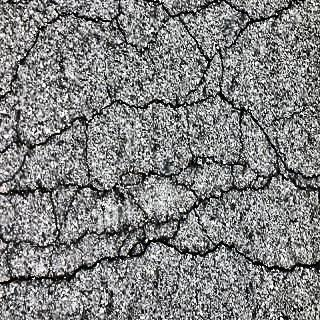alligator-crack: (2, 4, 320, 292)
